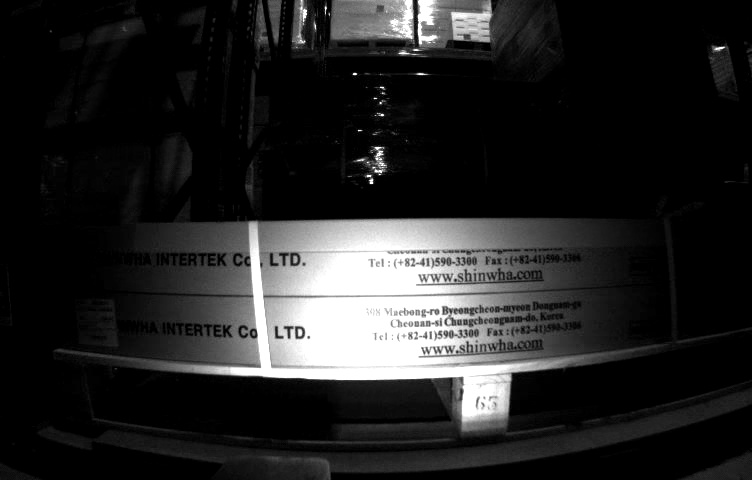True Barcode: (73, 297, 119, 348)
